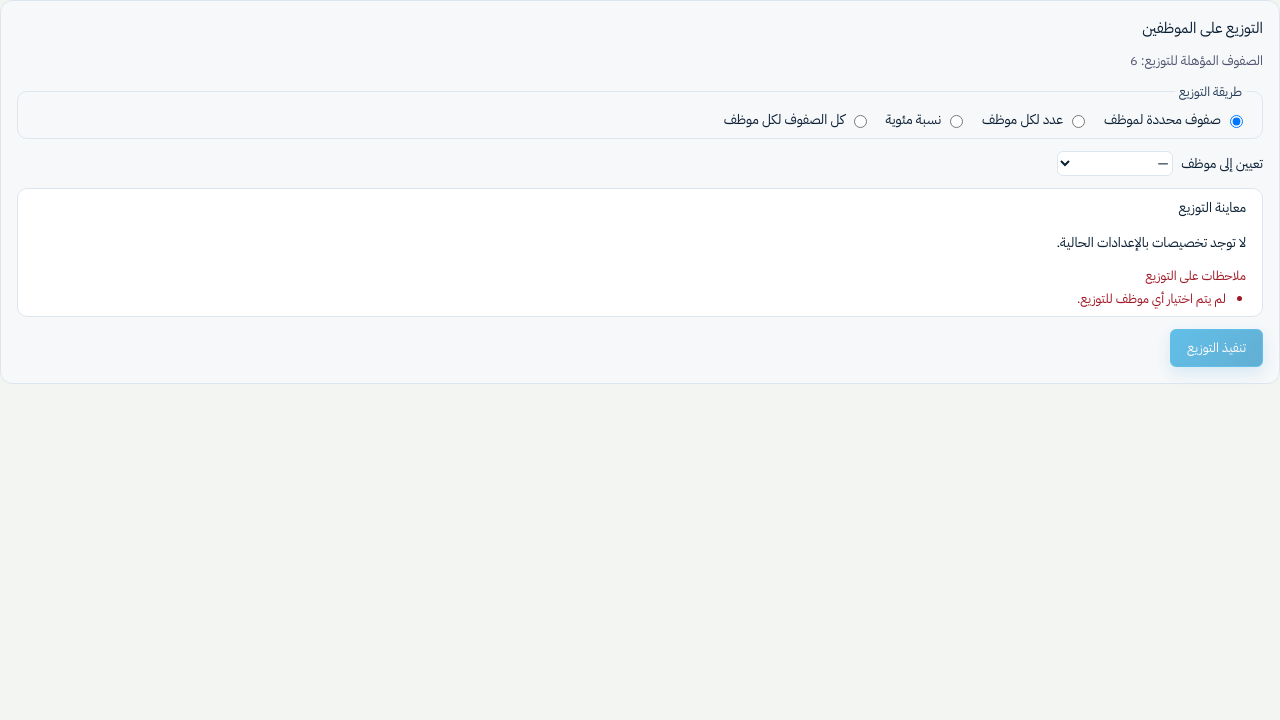
Test case: AssignmentPanel — fan-out confirmation › cancelling the fan-out confirmation writes nothing
Click the radio button labelled "كل الصفوف لكل موظف" at (860, 121), box [854,114,867,128]
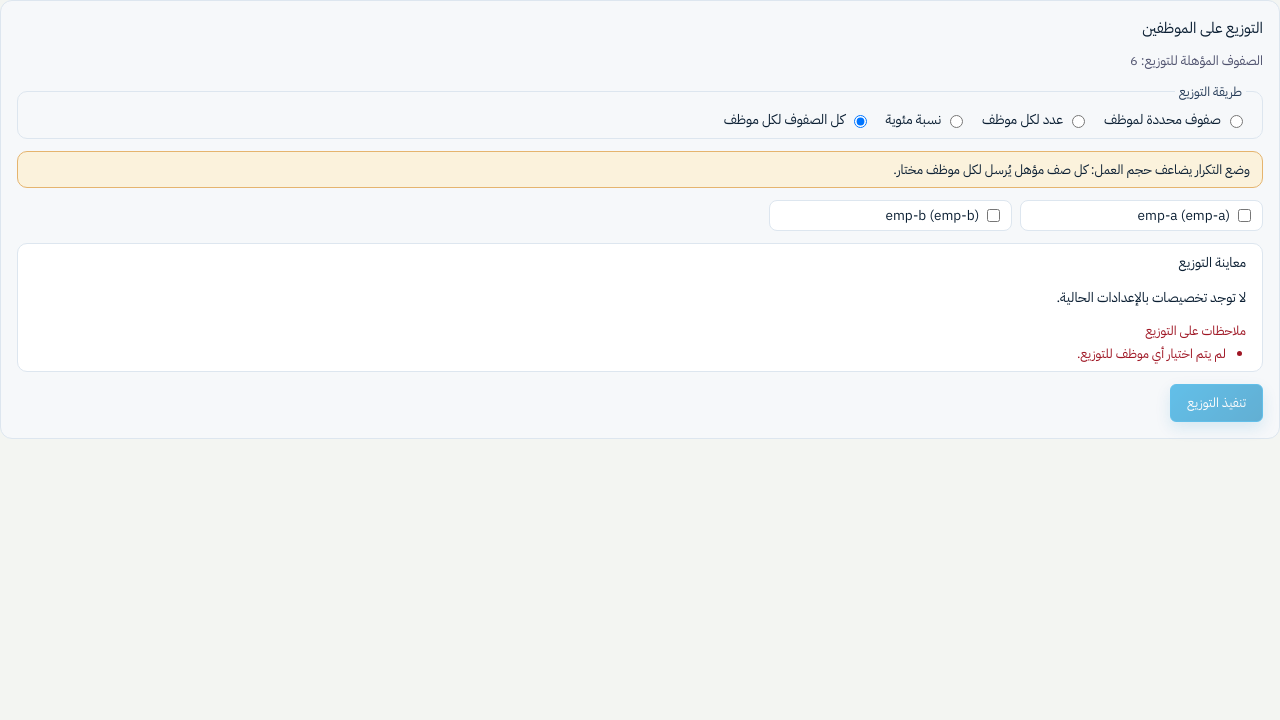
Click the checkbox labelled "emp-a (emp-a)" at (1244, 216), box [1238,209,1251,222]
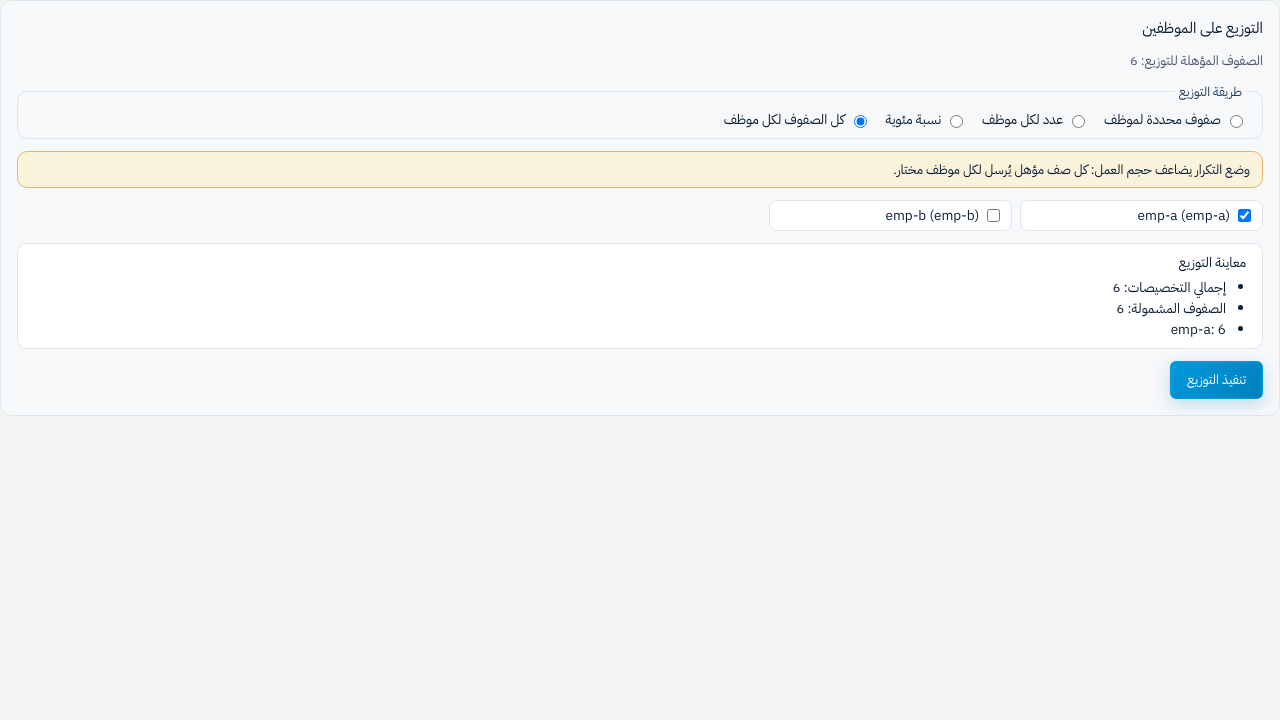
Click the button "تنفيذ التوزيع" at (1217, 380), box [1170,361,1263,399]
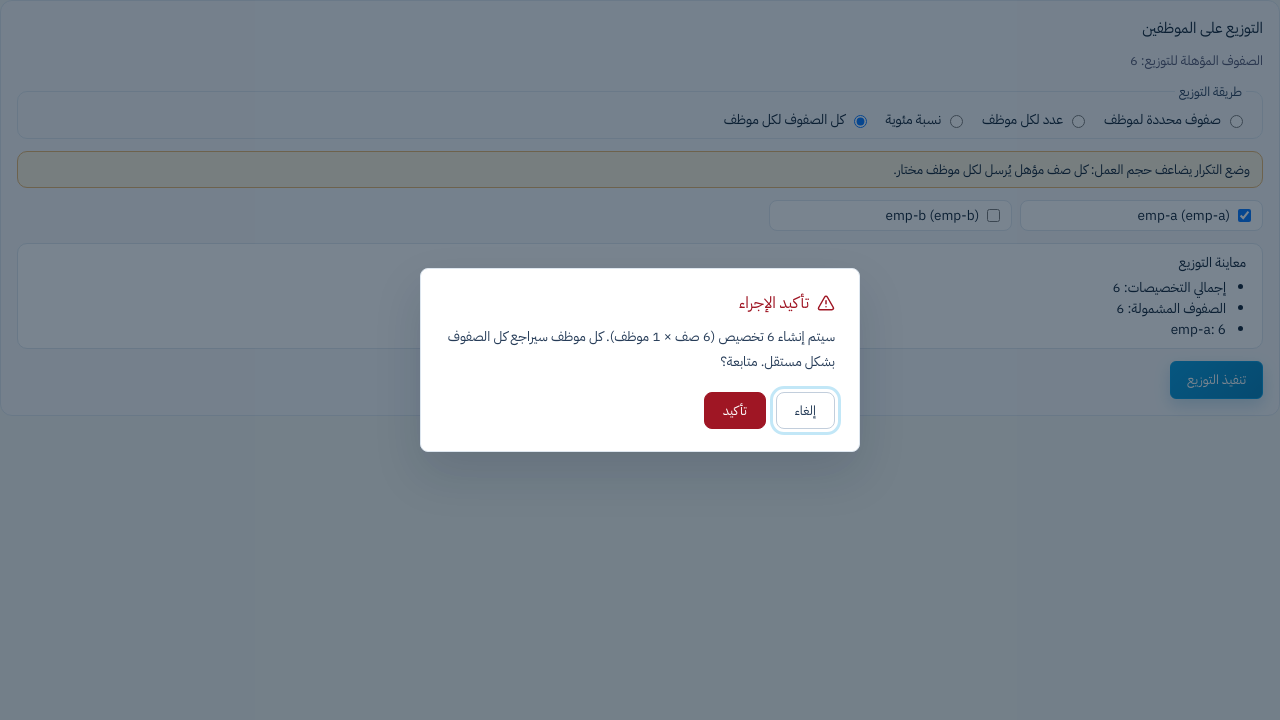
Click the button "إلغاء" at (805, 410), box [776,392,835,429]
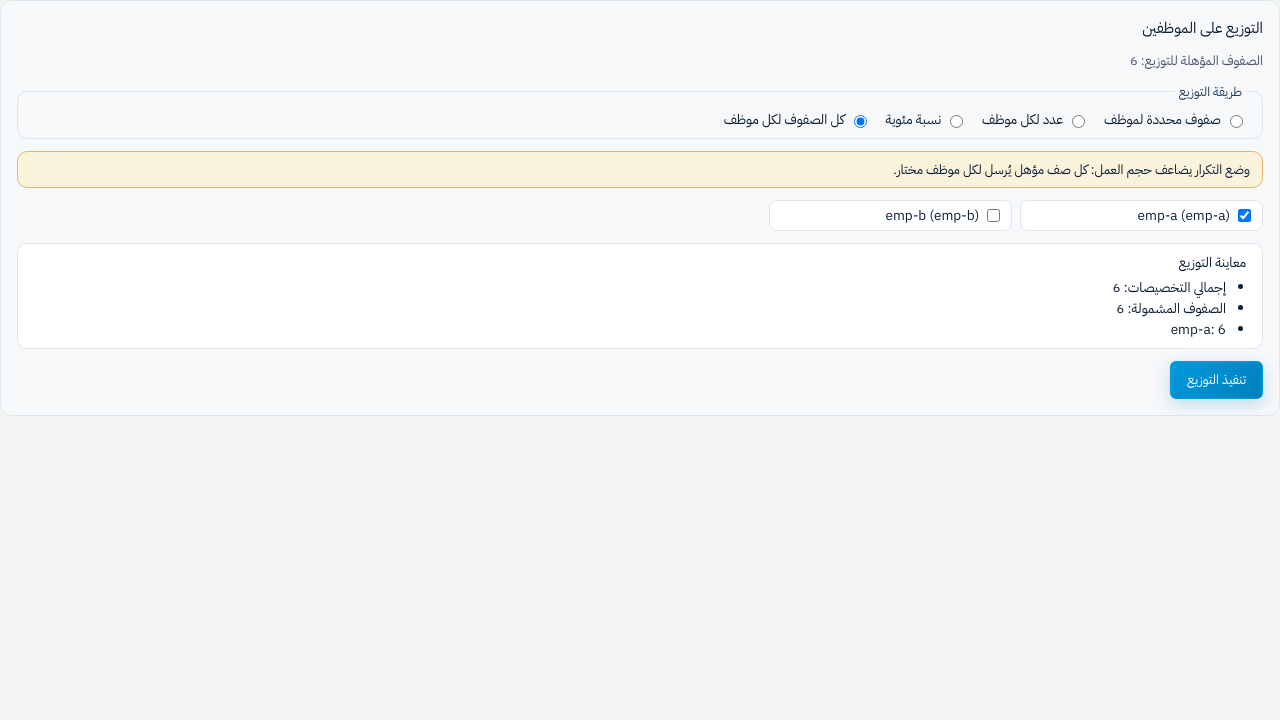
Expected: the dialog is gone
